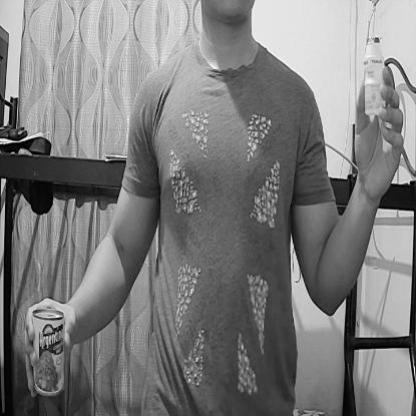Can: (30, 308, 70, 398)
Others: (362, 36, 388, 118)
